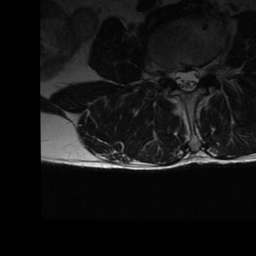CCS_normal: (182, 62, 192, 96)
LFS_normal: (200, 60, 208, 83)
LLS_normal: (191, 63, 199, 89)
RFS_normal: (164, 61, 174, 86)
RLS_normal: (174, 61, 182, 89)
